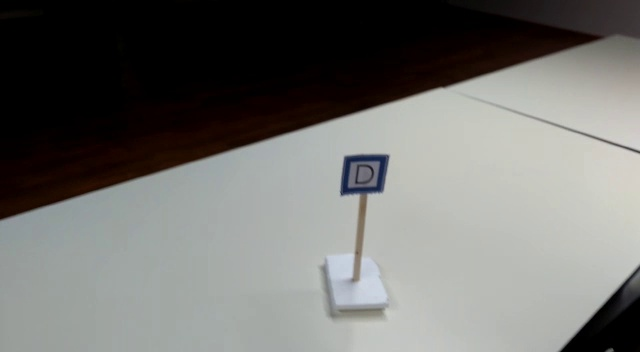durak: (341, 153, 389, 192)
